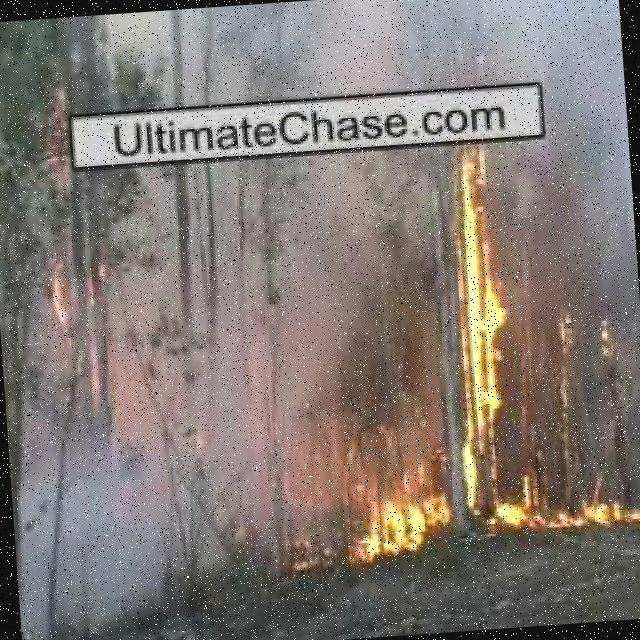Fire: (439, 85, 530, 473), (326, 464, 640, 557), (42, 260, 81, 346)
